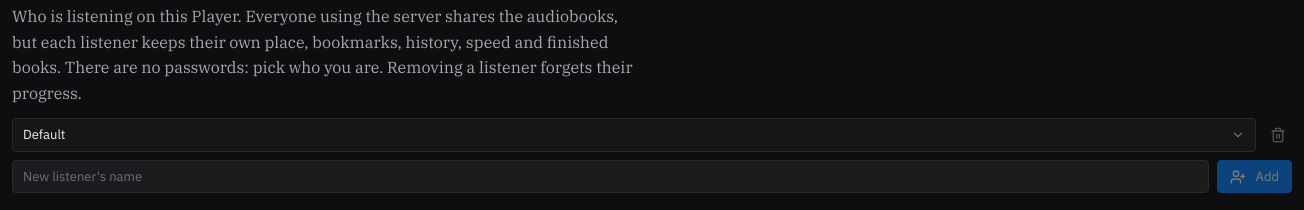
it: Audiobook listeners › adds a listener from this Player's Settings and listens as them
The width and height of the screenshot is (1304, 210).
Step 1. Type "Ann B" into the field with test id "new-listener" → (610, 177), box [12,160,1209,193]
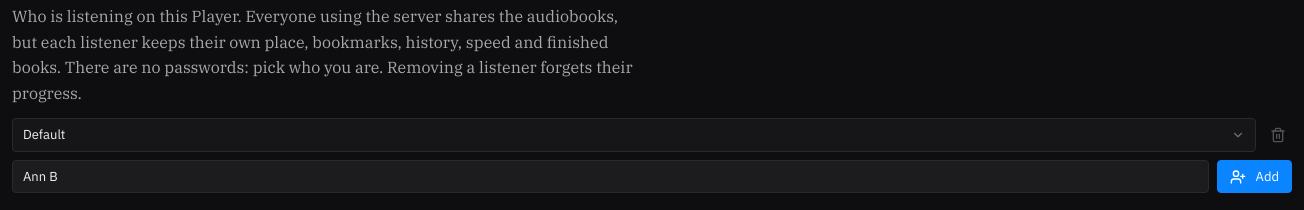
Step 2. Click the button with test id "add-listener" → (1254, 177), box [1217,160,1292,193]
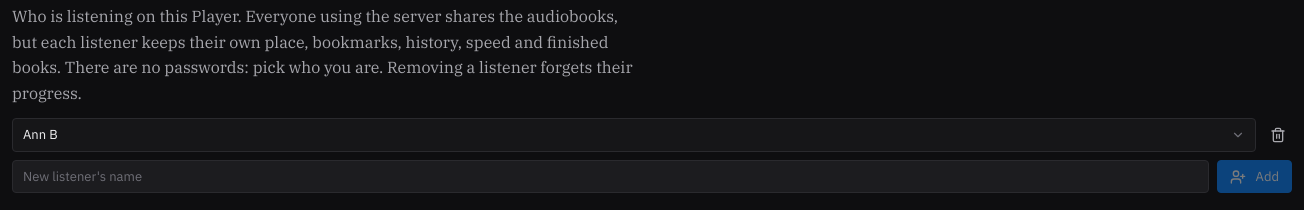
Result: the text "Ann B" is shown at [23,126,58,143]
